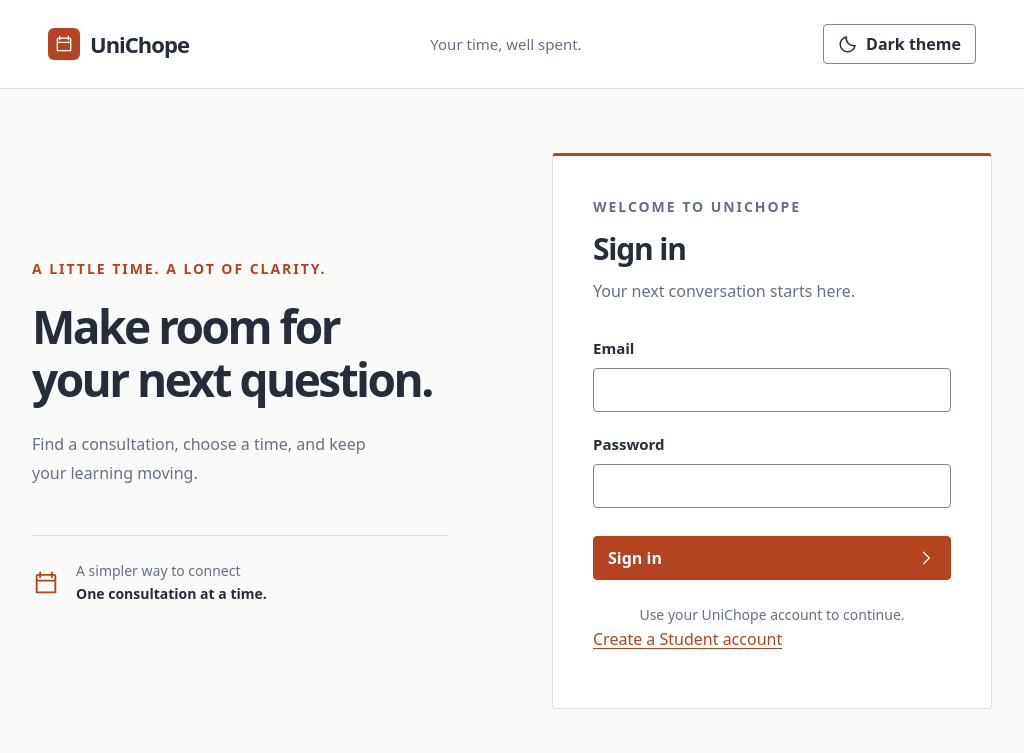
Scenario: FE1-LOGIN exact identity-free login, dynamic CSRF header and rotation before logout
Type "synthetic@example.test" into the field labelled "Email" at (772, 390), box [593,368,951,412]
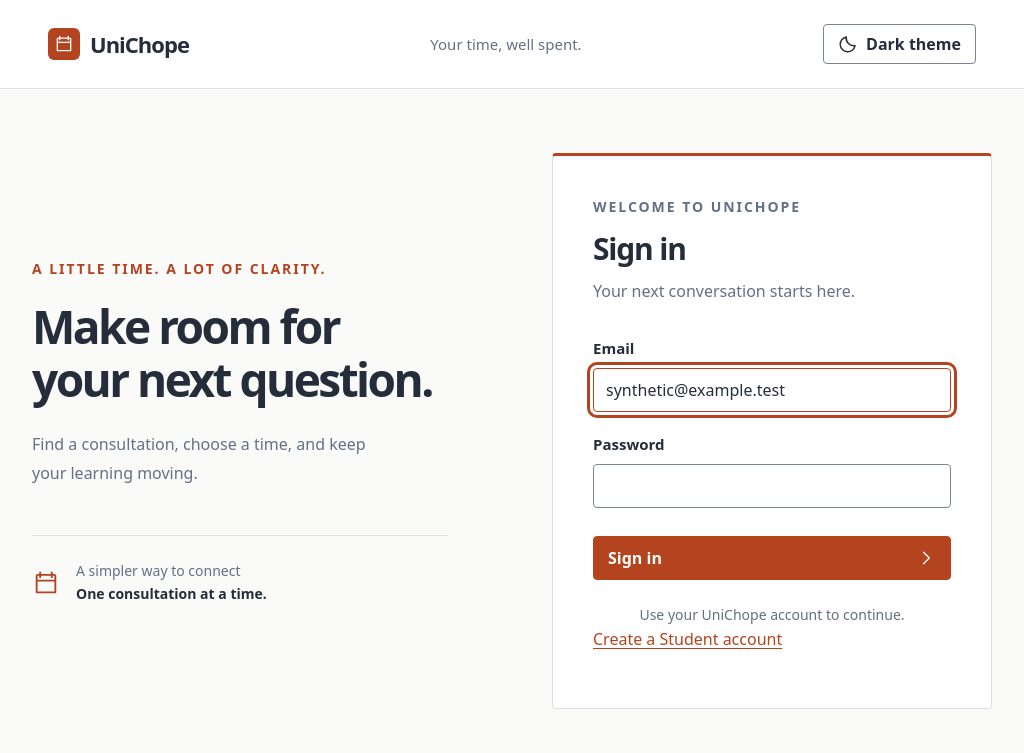
Type "Synthetic-password-12" into the password field labelled "Password" at (772, 486), box [593,464,951,508]
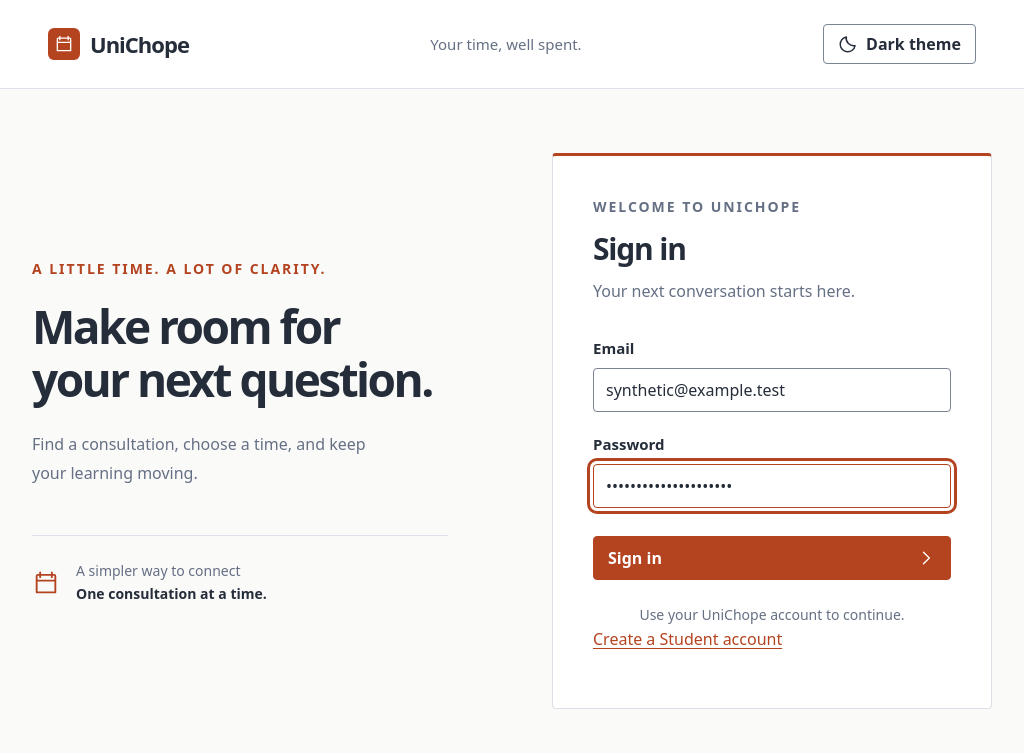
Click the button "Sign in" at (635, 558), box [593,536,951,580]
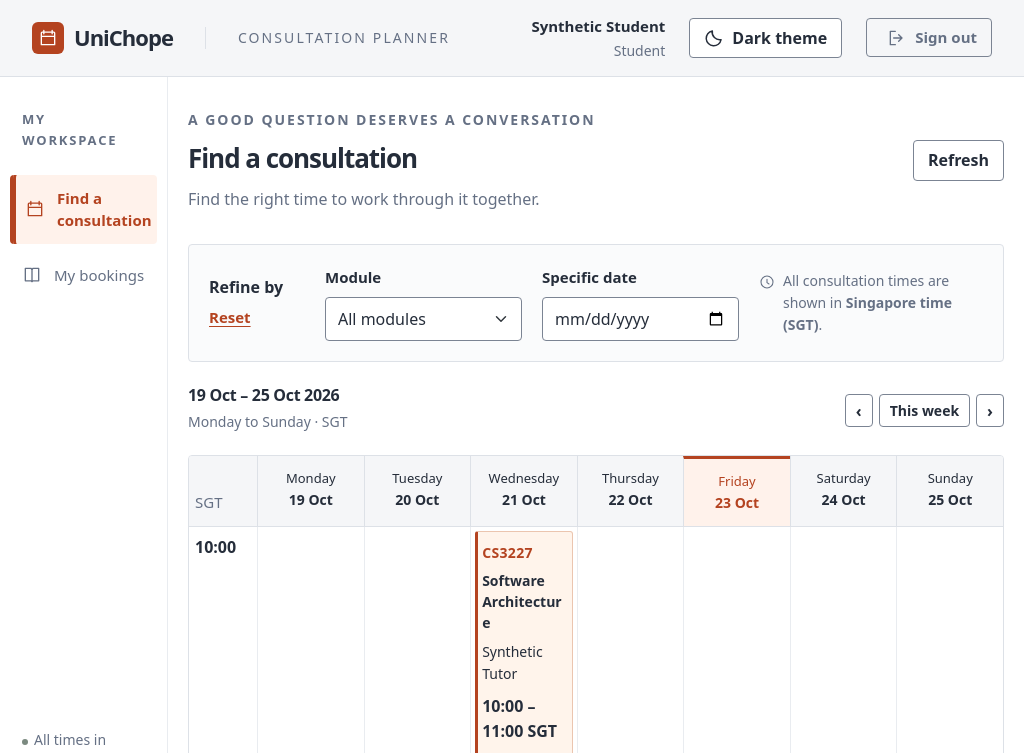
Result: the button "Sign out" is shown
Click the button "Sign out" at (929, 38), box [866,18,992,58]
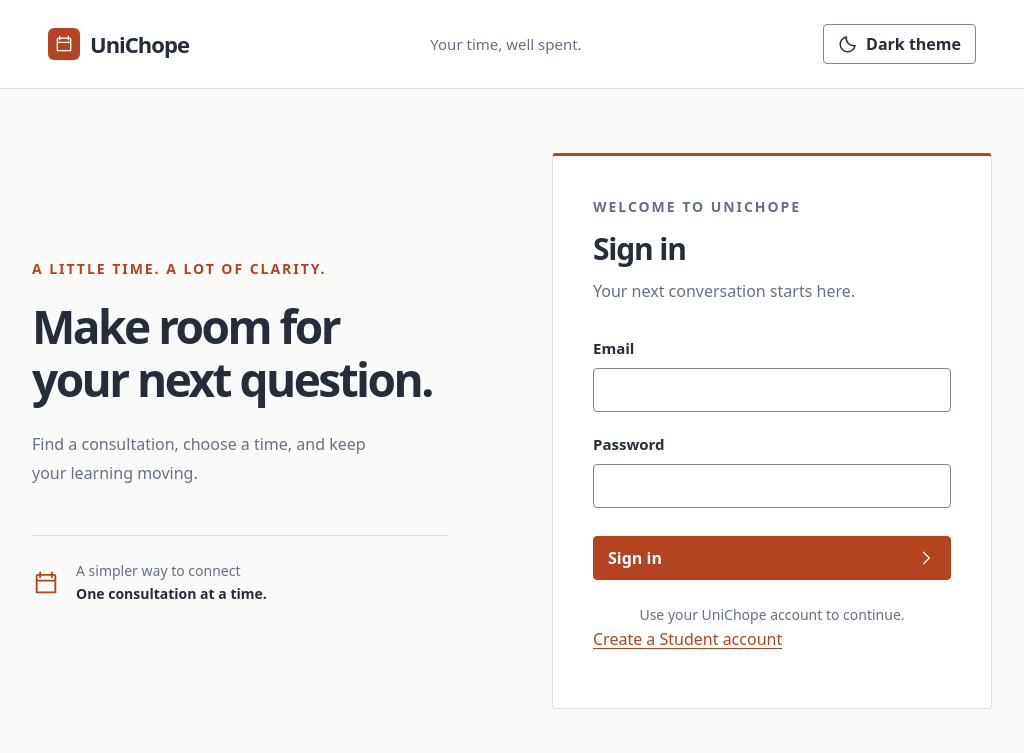
Result: the button "Sign in" is shown at [593,536,951,580]
